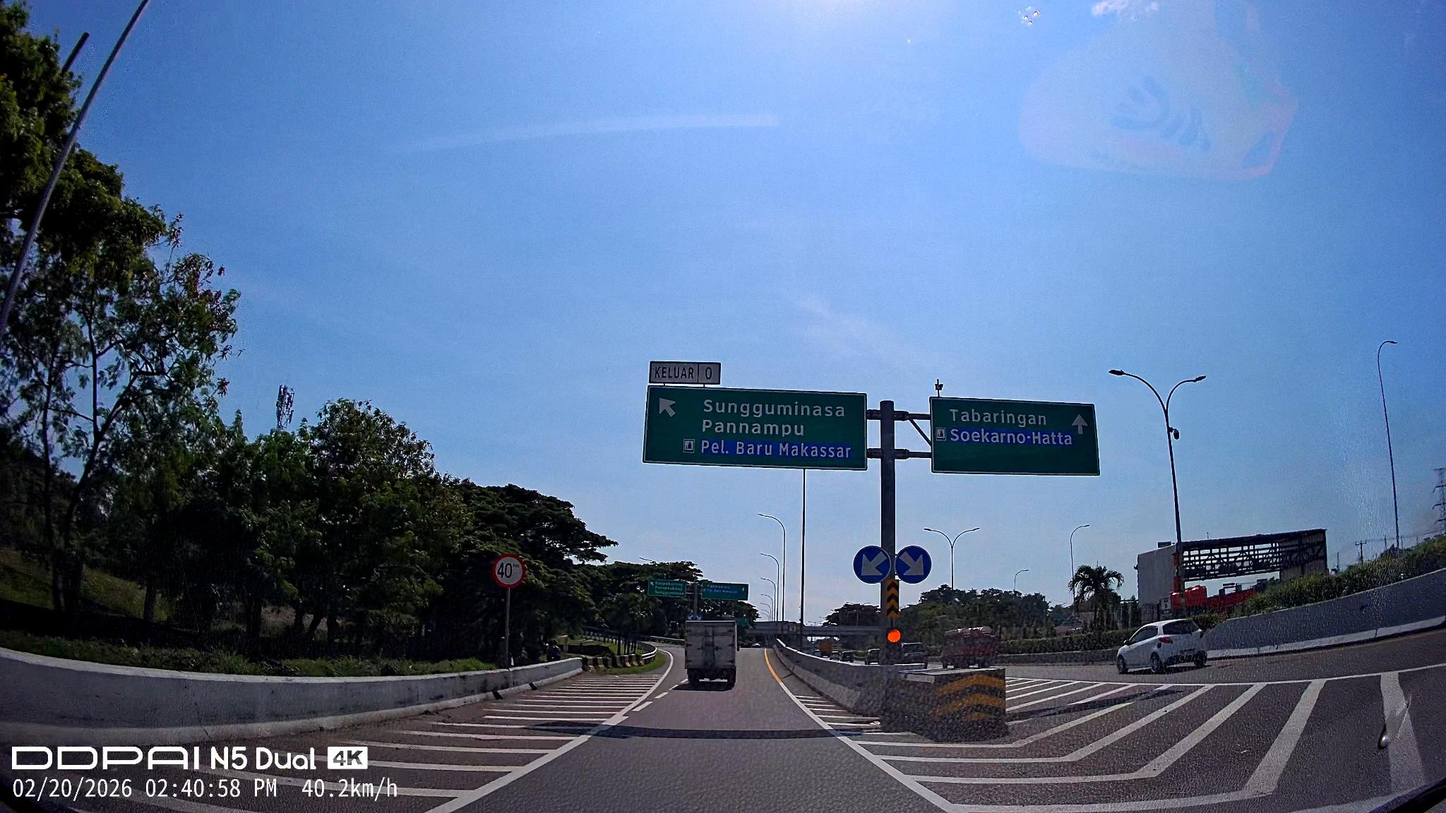rambu_teks: (643, 384, 868, 471), (929, 396, 1101, 477)
